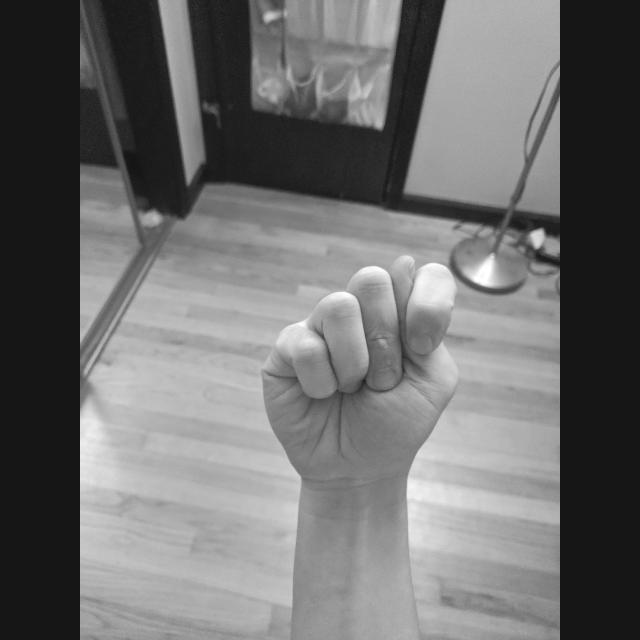T: (254, 248, 466, 490)
